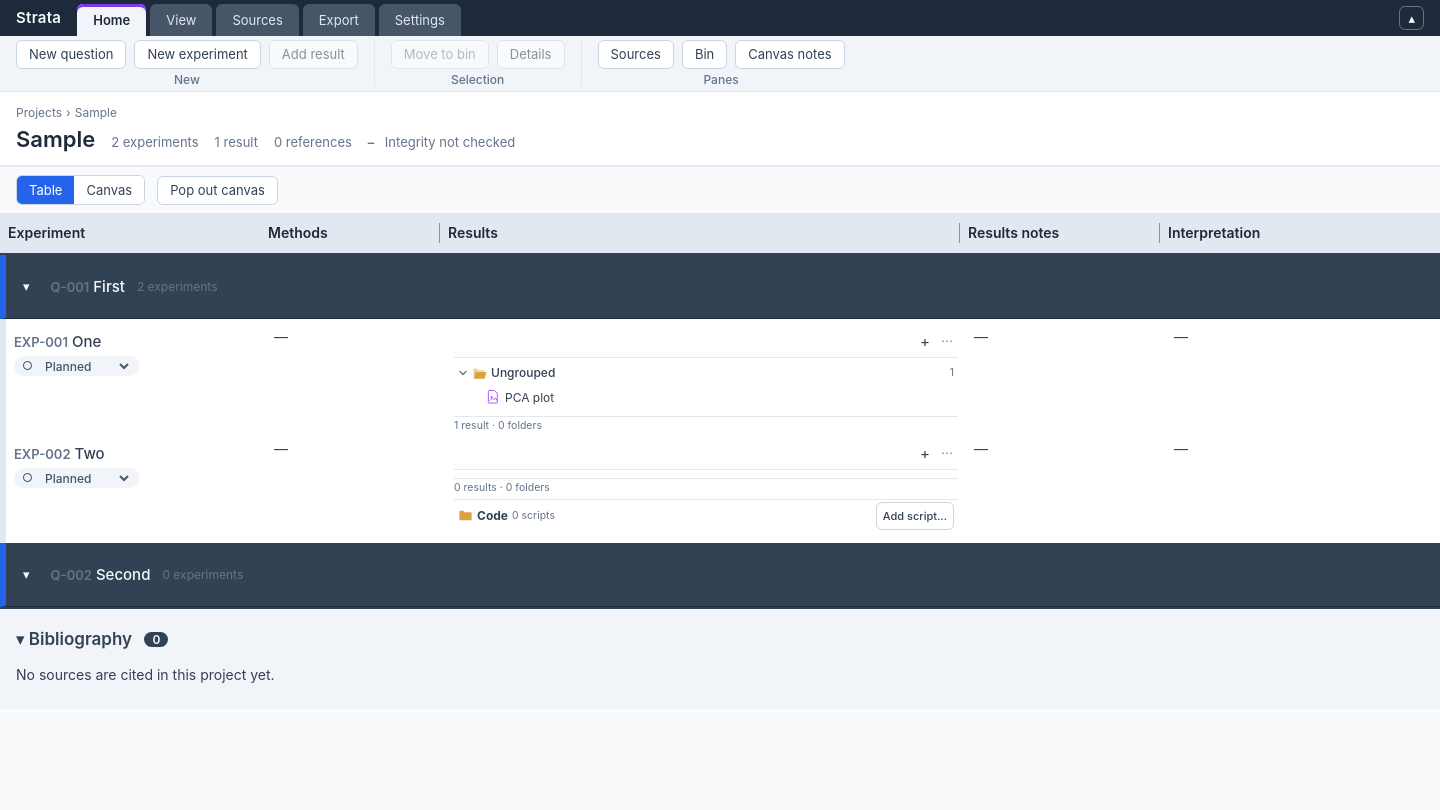
Test: the Canvas notes pane in the table view › opens on the question the table has selected
Click the button "Q-002 Second" at (100, 575), box [50,561,150,589]
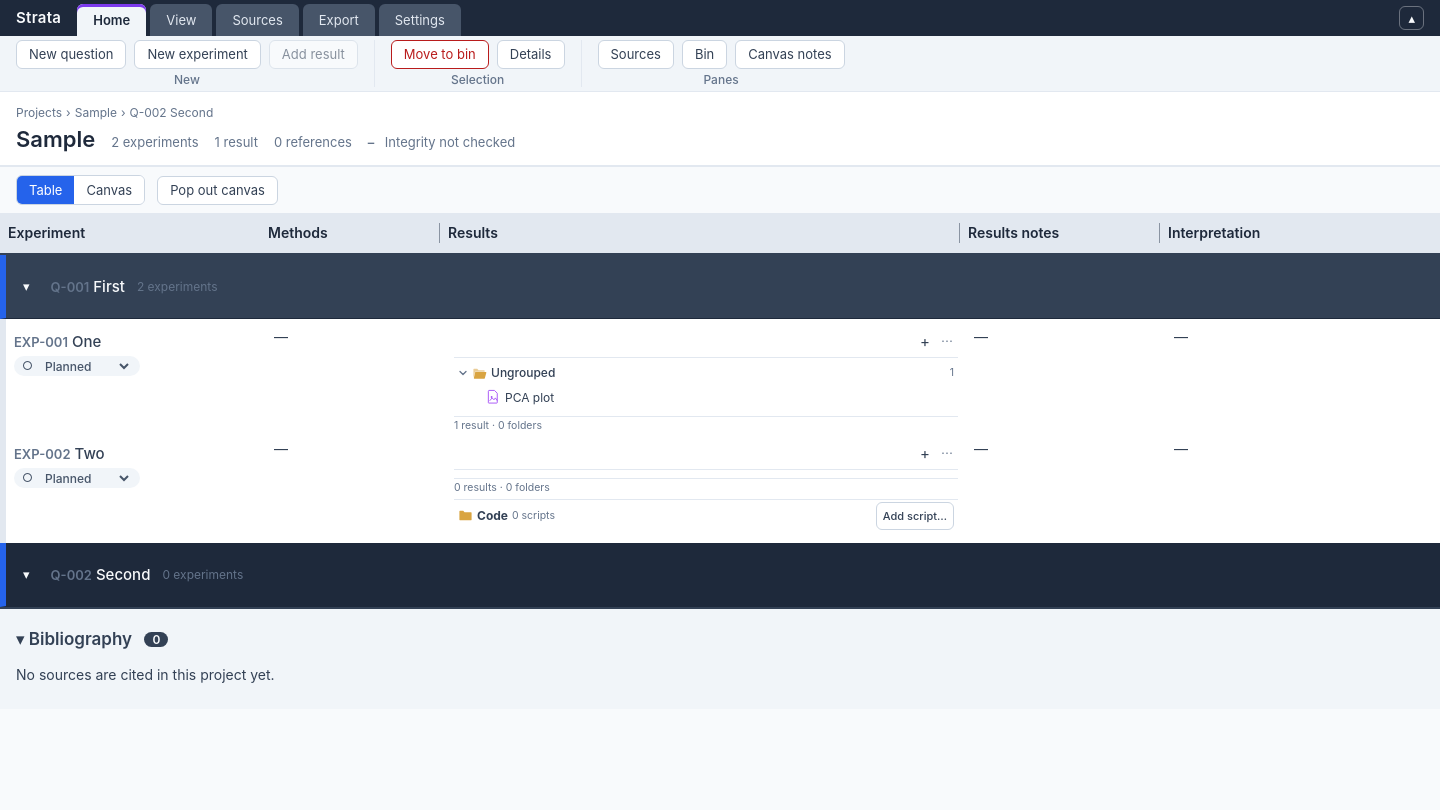
Click the button "Canvas notes" at (790, 54), box [735,40,845,69]
(page scrolled)
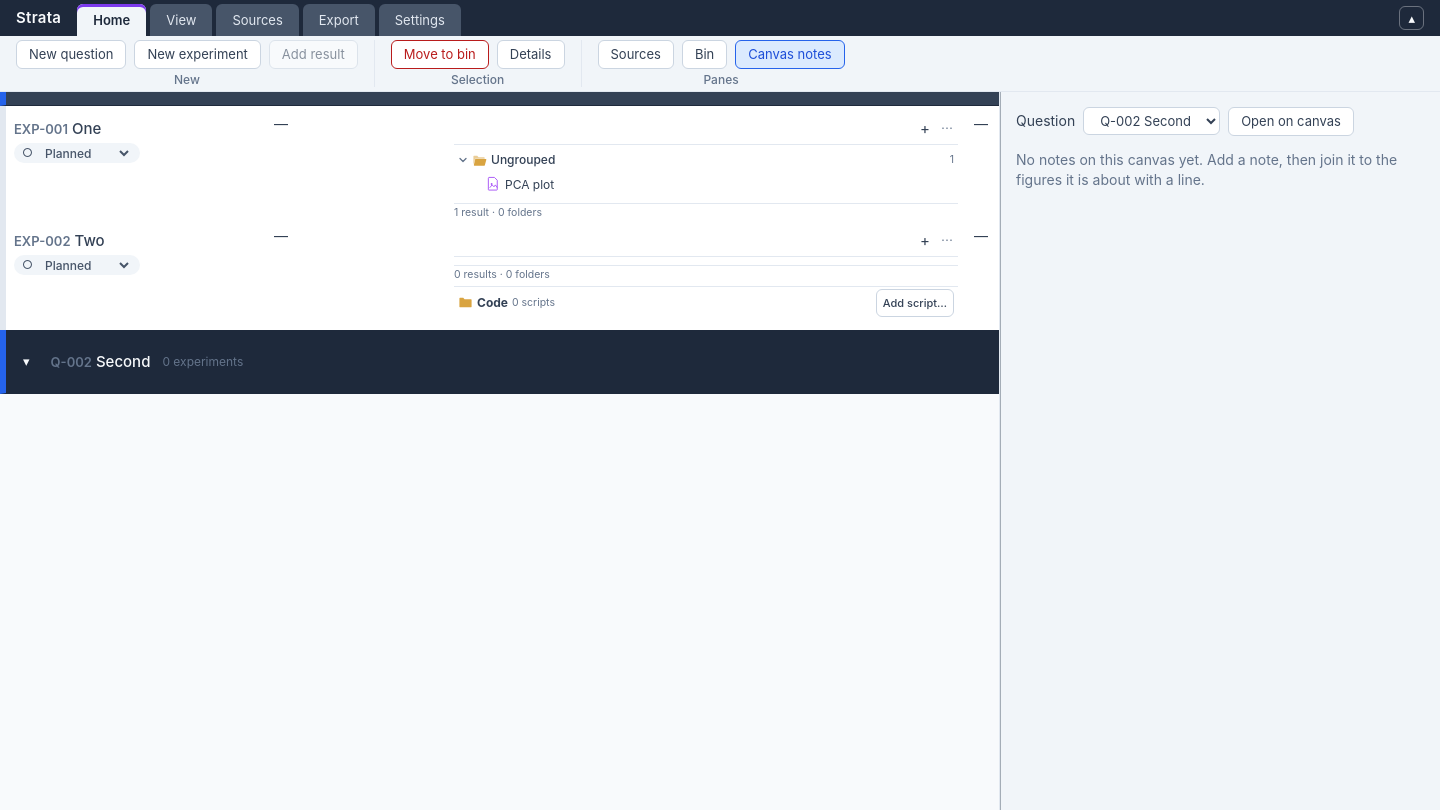
Check: the element named "Side pane" shows "No notes on this canvas yet", box [1016,151,1397,188]
